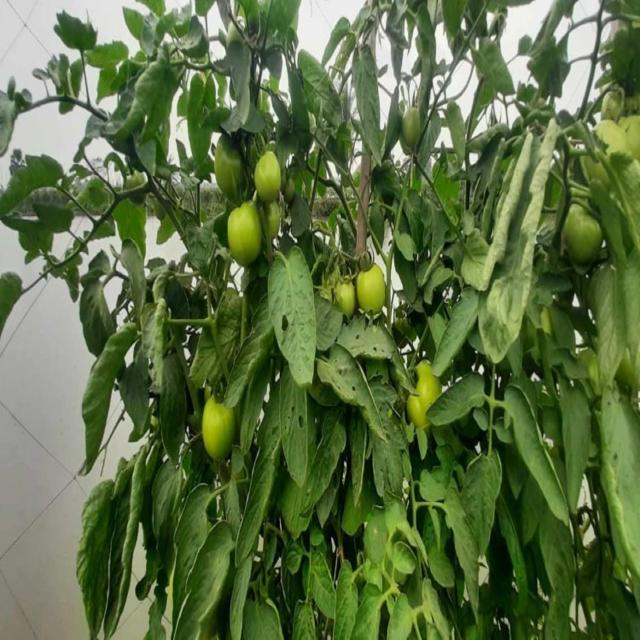tomato: (560, 202, 608, 262), (349, 260, 389, 319), (203, 397, 237, 463), (226, 202, 258, 271), (209, 134, 244, 193), (411, 360, 444, 415), (252, 154, 286, 199), (593, 114, 626, 153), (333, 273, 357, 321), (617, 107, 640, 156), (578, 348, 603, 389), (600, 86, 627, 119), (266, 205, 288, 240), (403, 104, 421, 144), (128, 169, 150, 187)
